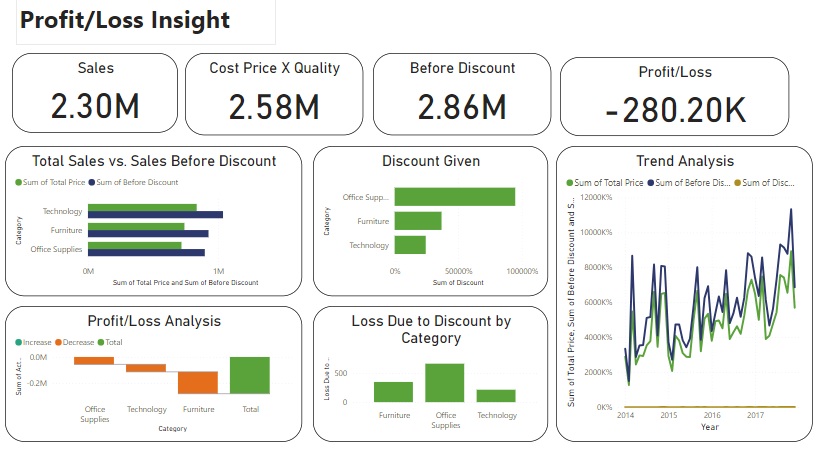

What the dashboard file says about the page in this screenshot:
{"tool":"powerbi","page":{"name":"Profitability Page","canvas":[1280,720],"ordinal":2},"visuals":[{"type":"card","title":"Profit/Loss","fields":{"Values":["Sum(Sample - Superstore.Actutal Profit/loss)"]},"box":[866.6,107.2,350.6,121],"z":0},{"type":"card","title":"Sales","fields":{"Values":["Sum(Sample - Superstore.Total Price)"]},"box":[27.6,101.1,254.2,122.5],"z":1000},{"type":"clusteredBarChart","title":"Total Sales vs. Sales Before Discount","fields":{"Y":["Sum(Sample - Superstore.Total Price)","Sum(Sample - Superstore.Before Discount)"],"Category":["Sample - Superstore.Category","Sample - Superstore.Sub-Category","Sample - Superstore.State"]},"box":[16.8,243.4,454.7,229.7],"z":2000},{"type":"barChart","title":"Discount Given","fields":{"Y":["Sum(Sample - Superstore.Discount)"],"Category":["Sample - Superstore.Category","Sample - Superstore.Sub-Category","Sample - Superstore.State"]},"box":[488.4,243.4,359.8,229.7],"z":3000},{"type":"waterfallChart","title":"Profit/Loss Analysis","fields":{"Category":["Sample - Superstore.Category","Sample - Superstore.Sub-Category","Sample - Superstore.State"],"Y":["Sum(Sample - Superstore.Actutal Profit/loss)"]},"box":[16.8,488.4,454.7,208.2],"z":4000},{"type":"columnChart","fields":{"Category":["Sample - Superstore.Category","Sample - Superstore.Sub-Category","Sample - Superstore.State"],"Y":["Sample - Superstore.Loss Due to Discount"]},"box":[488.4,488.4,359.8,208.2],"z":5000},{"type":"lineChart","title":"Trend Analysis","fields":{"Category":["Sample - Superstore.Order Date.Variation.Date Hierarchy.Year","Sample - Superstore.Order Date.Variation.Date Hierarchy.Month"],"Y":["Sum(Sample - Superstore.Total Price)","Sum(Sample - Superstore.Before Discount)","Sum(Sample - Superstore.Discount)"]},"box":[860.5,243.4,393.5,453.2],"z":6000},{"type":"textbox","box":[33.7,18.4,398.1,70.4],"z":7000},{"type":"card","title":"Cost Price X Quality","fields":{"Values":["Sum(Sample - Superstore.Product Price X Quantity)"]},"box":[292.4,101.1,272.5,125.6],"z":8000},{"type":"card","title":"Before Discount","fields":{"Values":["Sum(Sample - Superstore.Before Discount)"]},"box":[580.3,101.1,272.5,125.6],"z":9000}]}

Visuals, with their boxes in screenshot pixels (x1, y1, x2, y2), scaled from the page's 1280x720 canvas onto the 821x450 screenshot:
"Profit/Loss" card: x1=556 y1=67 x2=781 y2=143
"Sales" card: x1=18 y1=63 x2=181 y2=140
"Total Sales vs. Sales Before Discount" clusteredBarChart: x1=11 y1=152 x2=302 y2=296
"Discount Given" barChart: x1=313 y1=152 x2=544 y2=296
"Profit/Loss Analysis" waterfallChart: x1=11 y1=305 x2=302 y2=435
columnChart - Sample - Superstore.Category x Sample - Superstore.Sub-Category: x1=313 y1=305 x2=544 y2=435
"Trend Analysis" lineChart: x1=552 y1=152 x2=804 y2=435
textbox: x1=22 y1=12 x2=277 y2=56
"Cost Price X Quality" card: x1=188 y1=63 x2=362 y2=142
"Before Discount" card: x1=372 y1=63 x2=547 y2=142
